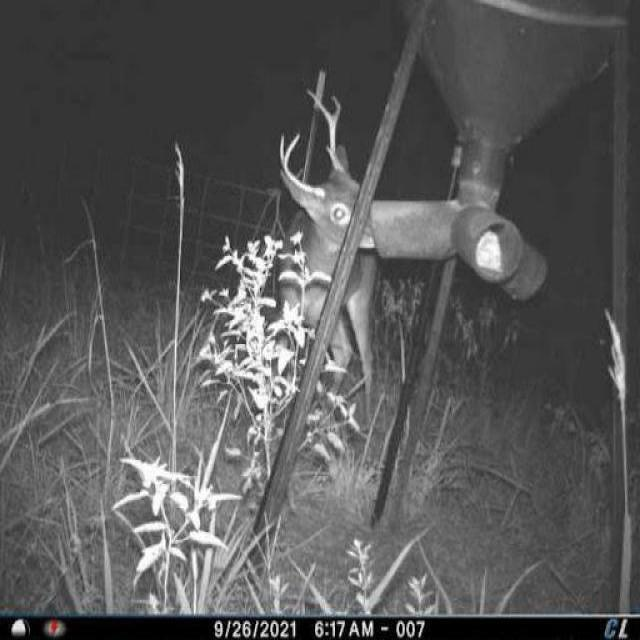deer: (267, 78, 378, 474)
